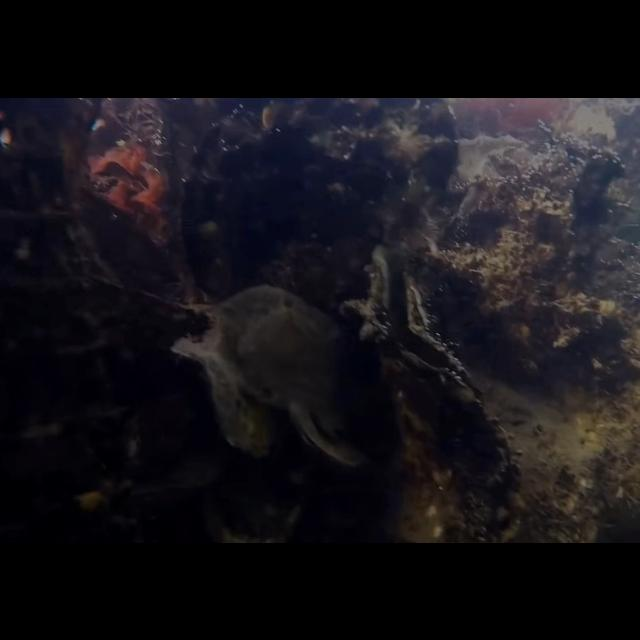Oyster-Closed: (213, 284, 383, 466)
Oyster-Open: (344, 246, 486, 408)
